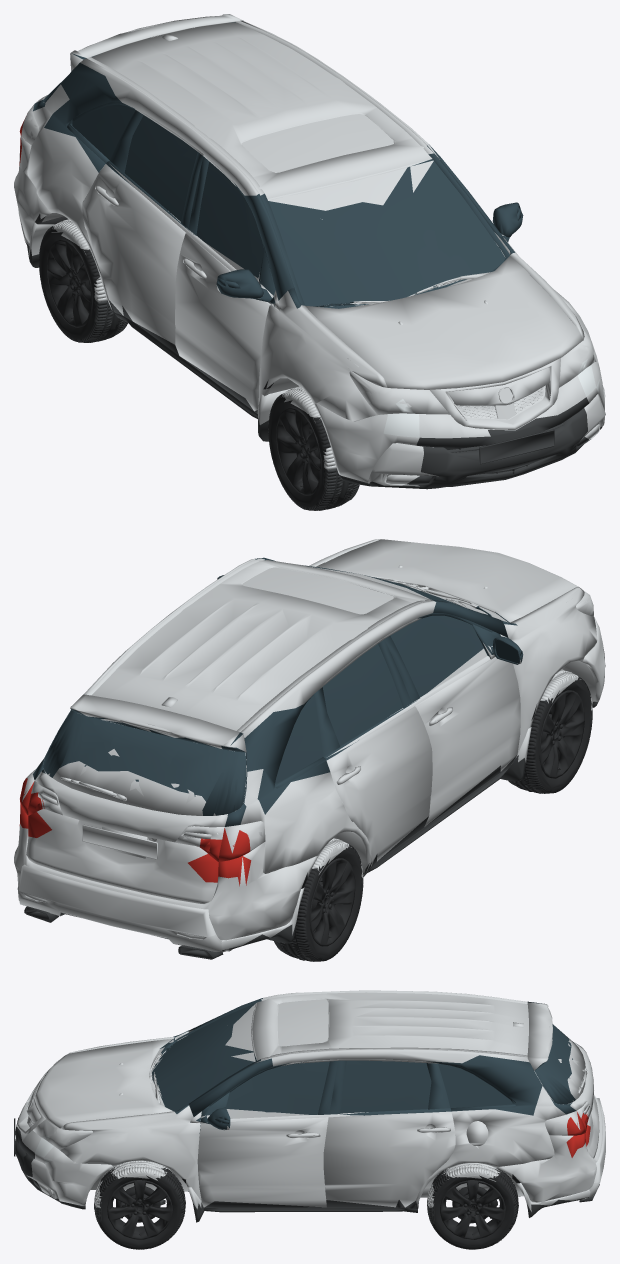
The model's file is acura-mdx-repaired.glb.
3 views of the same model, one above another, from view 1: azimuth 30°, elevation 25°; view 2: azimuth 150°, elevation 25°; view 3: azimuth 270°, elevation 25° (orthographic). The views are drawn at different scales.
Parts seen in each view (by area): view 1: acura; view 2: acura; view 3: acura.
Boxes of the visible parts, box(x1,y1,x2,y2) form: acura: box(14, 14, 605, 510); acura: box(14, 539, 605, 961); acura: box(14, 990, 605, 1249).
Size of the model in its own units: 2.17 by 1.77 by 5.05.
